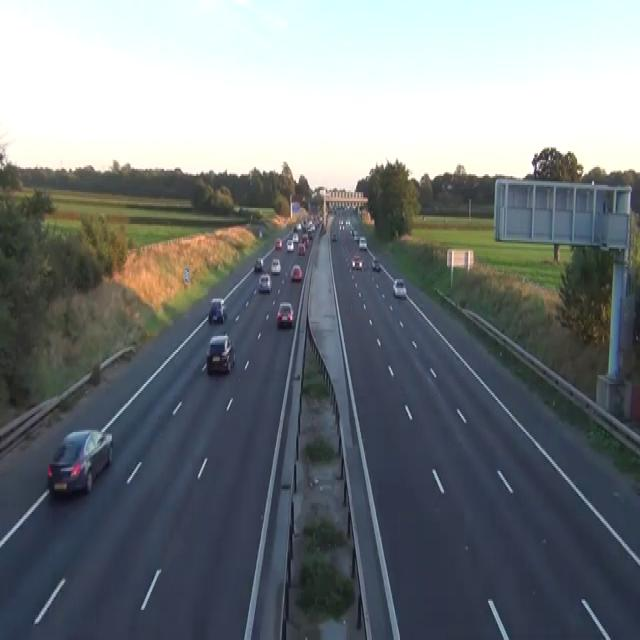Car: (47, 428, 113, 496), (206, 332, 235, 373), (208, 297, 226, 323), (276, 301, 294, 327), (392, 277, 406, 297), (258, 274, 271, 293), (290, 263, 302, 281), (351, 254, 362, 270), (271, 258, 281, 274), (254, 256, 263, 270), (358, 236, 367, 249), (371, 258, 380, 270), (297, 242, 305, 254), (275, 236, 282, 249), (286, 238, 293, 251), (292, 231, 298, 242), (353, 229, 359, 240), (331, 233, 338, 242), (301, 233, 308, 242), (338, 218, 344, 228), (295, 222, 301, 231), (345, 218, 350, 226), (322, 224, 326, 233), (307, 231, 312, 238), (258, 228, 262, 236), (350, 228, 354, 236)
